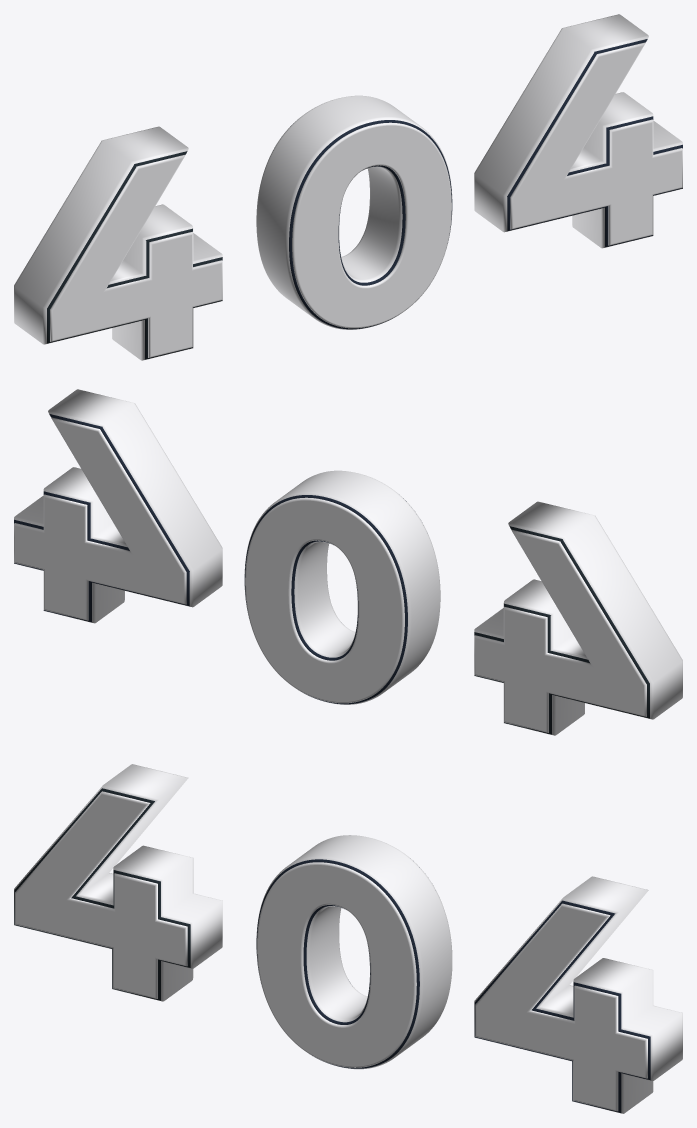
3 renders of one model, top to bottom at view 1: azimuth 30°, elevation 25°; view 2: azimuth 150°, elevation 25°; view 3: azimuth 330°, elevation 25°, orthographic.
Visible parts, largest first — view 1: N_0_smaller, N_4_smaller, N_4_smaller.001, N_4_side.001, N_4_side, N_0_side, N_0_border, N_4_border, N_4_border.001; view 2: N_0_smaller, N_4_smaller, N_4_smaller.001, N_4_side.001, N_4_side, N_0_side, N_0_border, N_4_border, N_4_border.001; view 3: N_0_smaller, N_4_smaller, N_4_smaller.001, N_0_side, N_4_side.001, N_4_side, N_4_border, N_4_border.001, N_0_border.
Part boxes in pixels (x1,y1,x2,y2): N_0_smaller: (268,121,451,328); N_4_smaller: (510,42,682,245); N_4_smaller.001: (50,155,222,357); N_4_side.001: (14,126,222,360); N_4_side: (474,14,682,248); N_0_side: (256,95,452,329); N_0_border: (289,120,452,329); N_4_border: (507,39,682,247); N_4_border.001: (47,151,222,359); N_0_smaller: (245,496,428,703); N_4_smaller: (14,417,186,620); N_4_smaller.001: (474,530,646,732); N_4_side.001: (474,501,682,735); N_4_side: (14,389,222,623); N_0_side: (244,470,440,704); N_0_border: (244,495,407,704); N_4_border: (14,414,189,622); N_4_border.001: (474,526,649,734); N_0_smaller: (257,856,441,1067); N_4_smaller: (475,903,647,1111); N_4_smaller.001: (15,791,187,998); N_0_side: (256,835,452,1069); N_4_side.001: (14,764,222,1001); N_4_side: (474,876,682,1113); N_4_border: (474,900,650,1112); N_4_border.001: (14,788,190,1000); N_0_border: (256,859,419,1068).
Bounding box in the file's own units: 1.83 × 0.6125 × 0.184.
